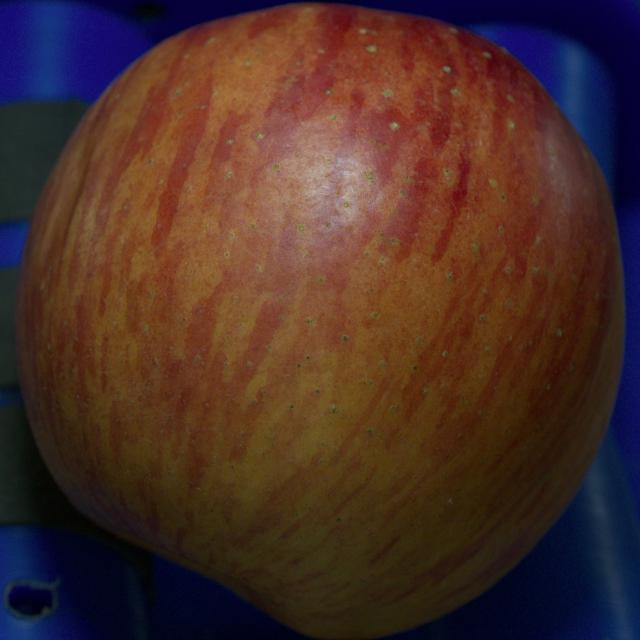apple: (15, 5, 624, 639)
